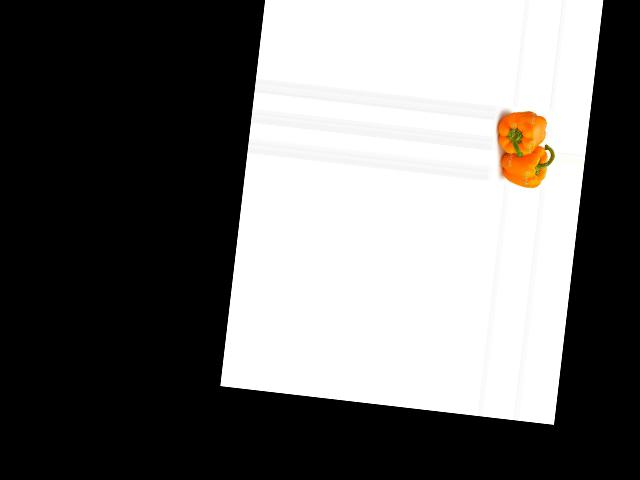bell_pepper: (498, 137, 554, 190)
